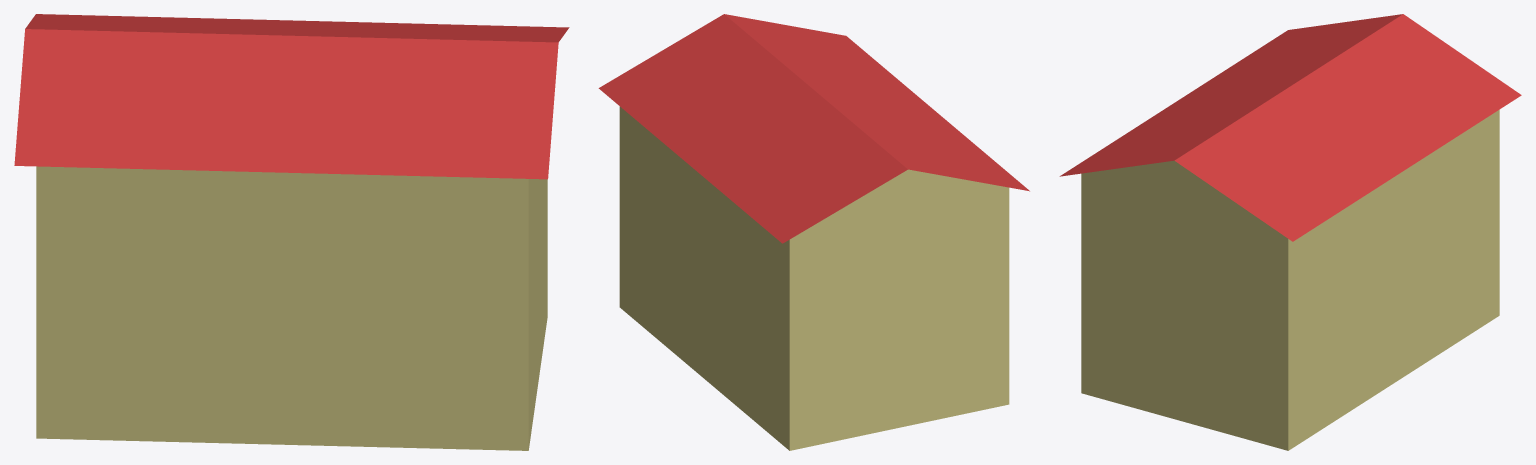
The picture shows the model from 3 angles, left to right: view 1: azimuth 30°, elevation 25°; view 2: azimuth 150°, elevation 25°; view 3: azimuth 270°, elevation 25°; orthographic projection. The views are drawn at different scales.
Bounding box in the file's own units: 15.63 × 14.43 × 9.17.
